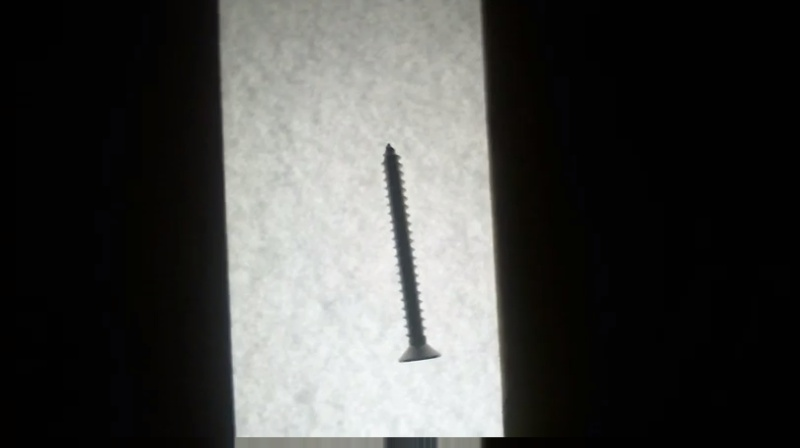S002: (379, 139, 444, 366)
